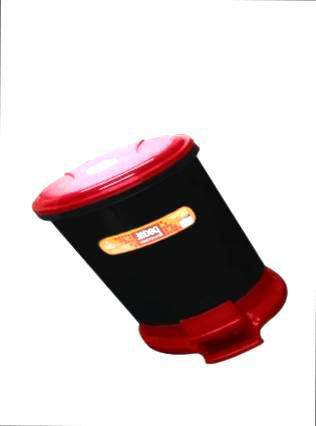Bote de Basura: (37, 136, 291, 372)
